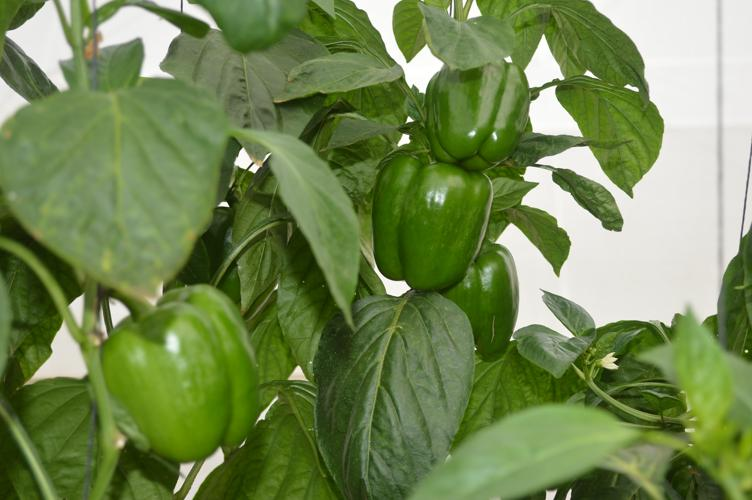BellPepper: (106, 285, 260, 453), (372, 156, 492, 285), (425, 58, 531, 168), (439, 241, 520, 360)
